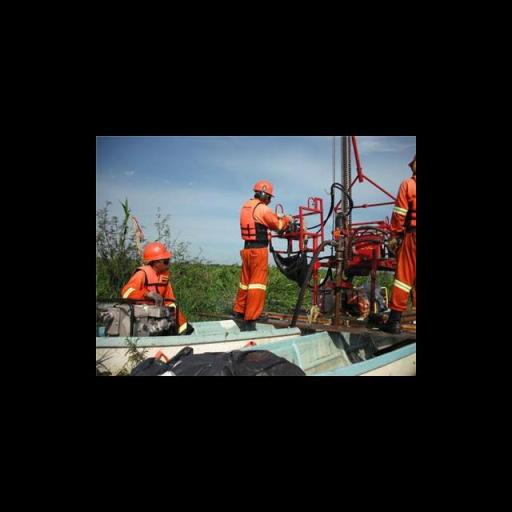Person: (376, 142, 426, 339), (234, 166, 287, 345), (121, 230, 195, 336)
gloves: (273, 208, 302, 234), (144, 284, 168, 308)
helmet: (133, 235, 177, 269), (243, 179, 275, 199)
vest: (226, 190, 288, 320), (114, 262, 194, 336), (382, 175, 417, 319)
